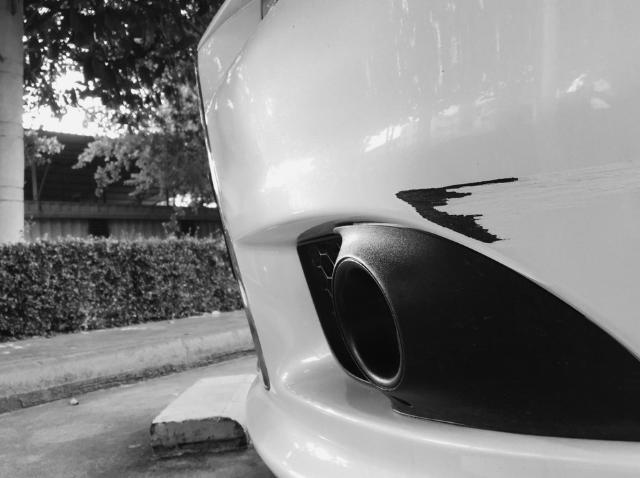Bumper: (372, 139, 528, 264)
